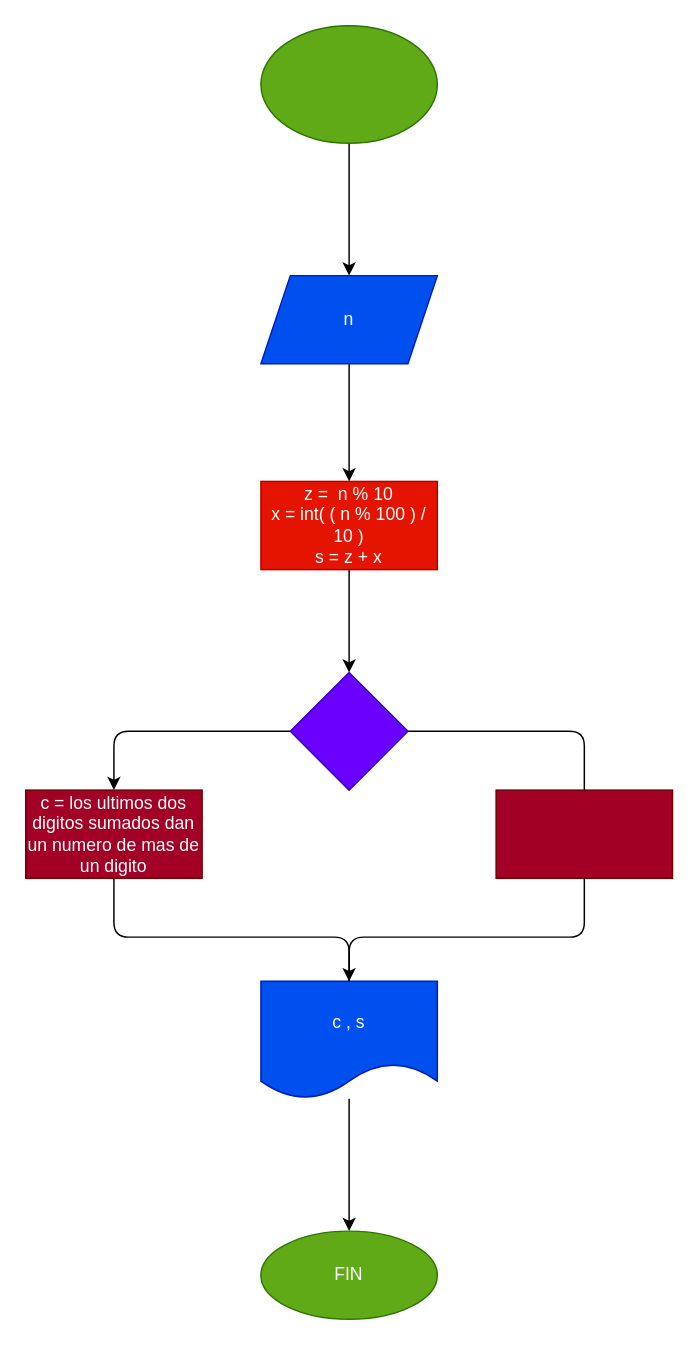
Image size: 698x1345. Some labels were removed from this diagram. Here are the shapes that lost their labels. From the top down, the centre of each, then its label:
At [348,83]: "INICIO".
At [348,730]: "s < 10".
At [584,833]: "c = los ultimos dos digitos sumados dan un número de un digito".
